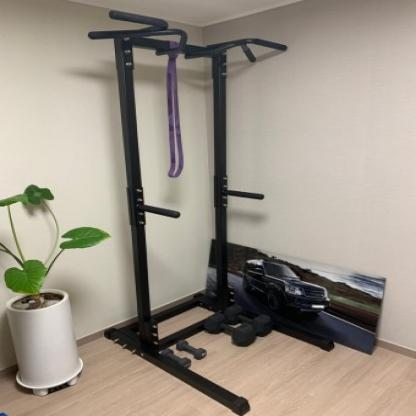chinning dipping: (90, 10, 334, 414)
